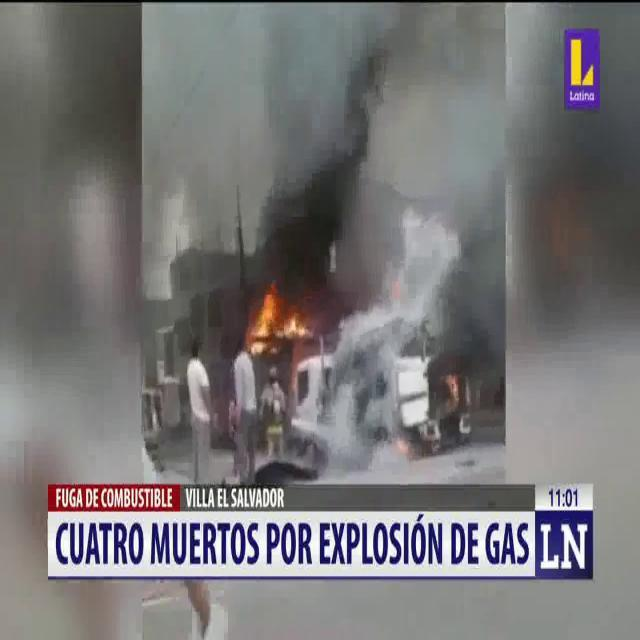Fire: (243, 280, 313, 358)
Smoke: (250, 2, 506, 300), (507, 1, 640, 399)
